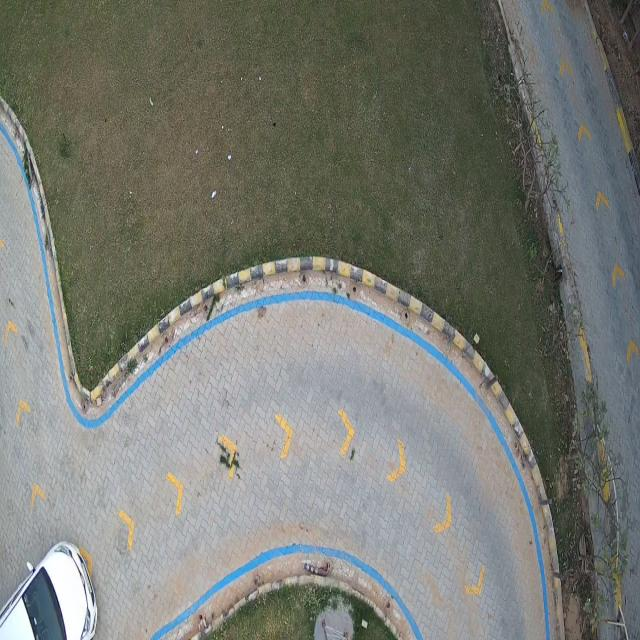car: (0, 542, 98, 640)
